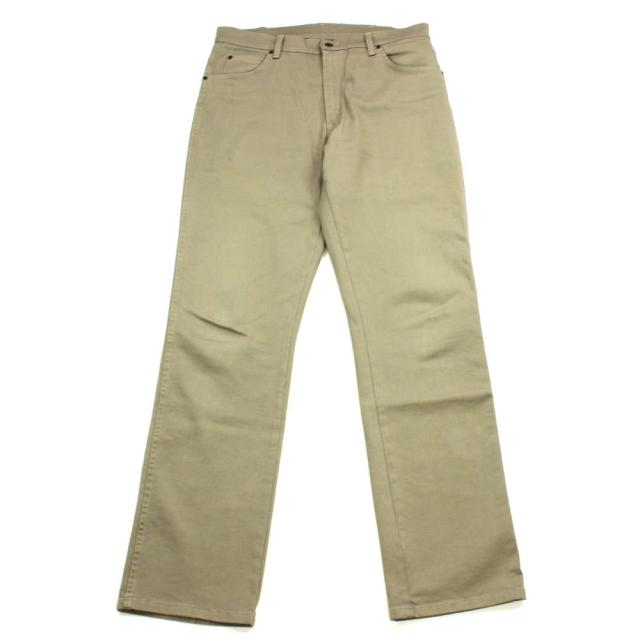long-pants: (114, 19, 528, 628)
